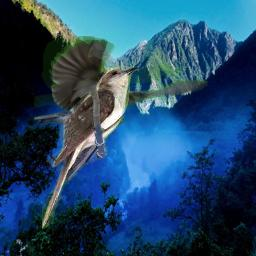Cuckoo: (42, 66, 139, 229)
Swallow: (34, 36, 208, 128)
